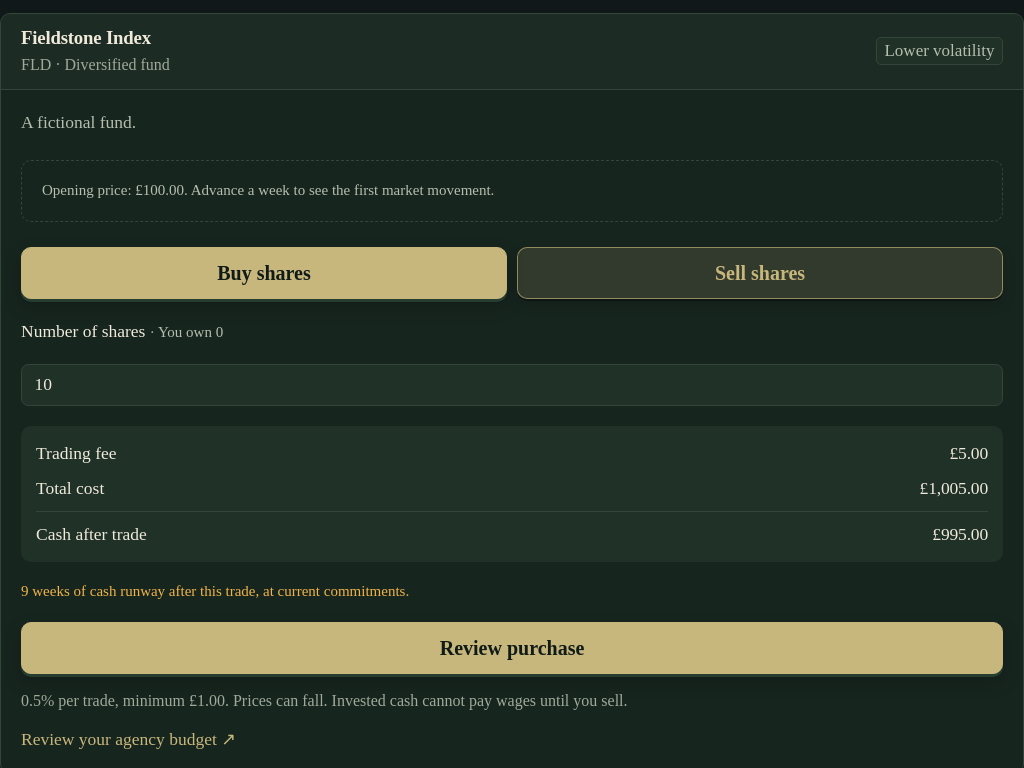
Test: investment trading › requires a cash-backed review before executing and blocks overselling
(page scrolled)
Replace the text in the number field labelled "Number of shares · You own 0" with "100": {"x": 512, "y": 385} [21, 364, 1003, 406]
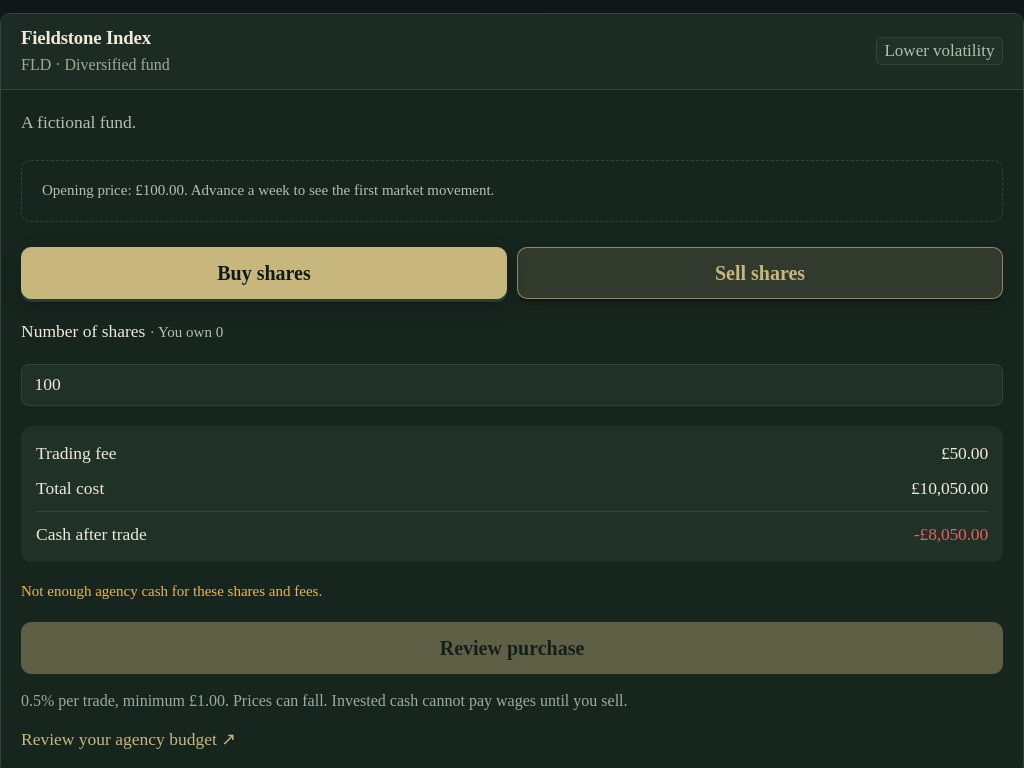
Now the button "Review purchase" is disabled, box [21, 622, 1003, 674]
Replace the text in the number field labelled "Number of shares · You own 0" with "10": {"x": 512, "y": 385} [21, 364, 1003, 406]
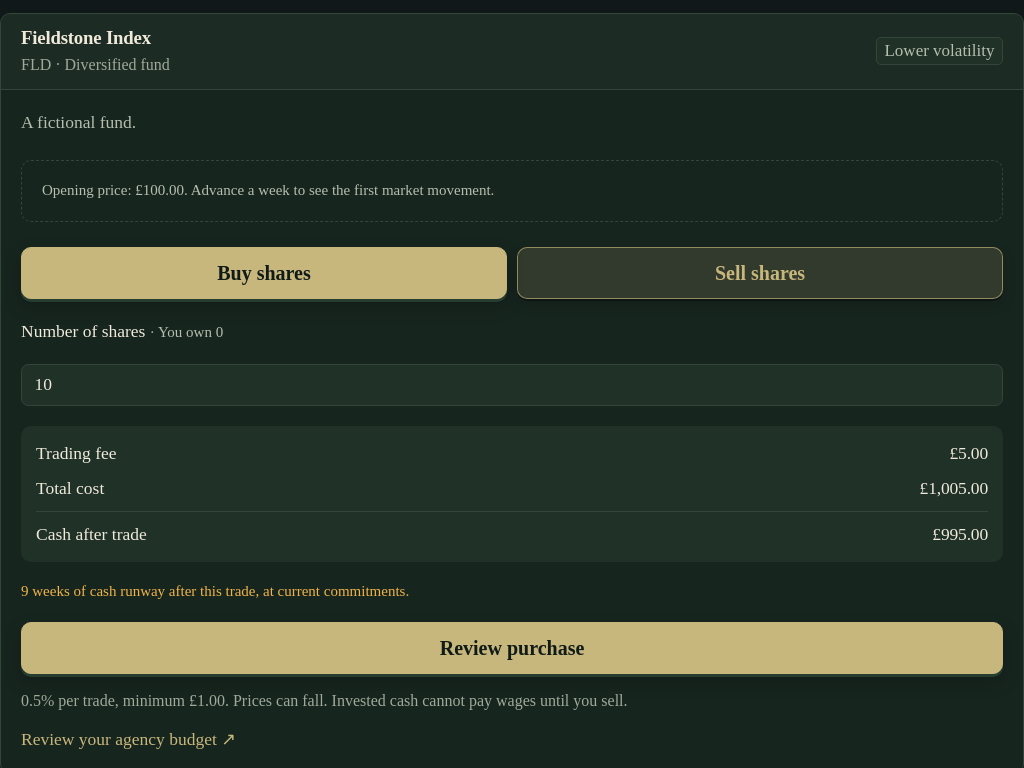
Click the button "Review purchase": {"x": 512, "y": 648} [21, 622, 1003, 674]
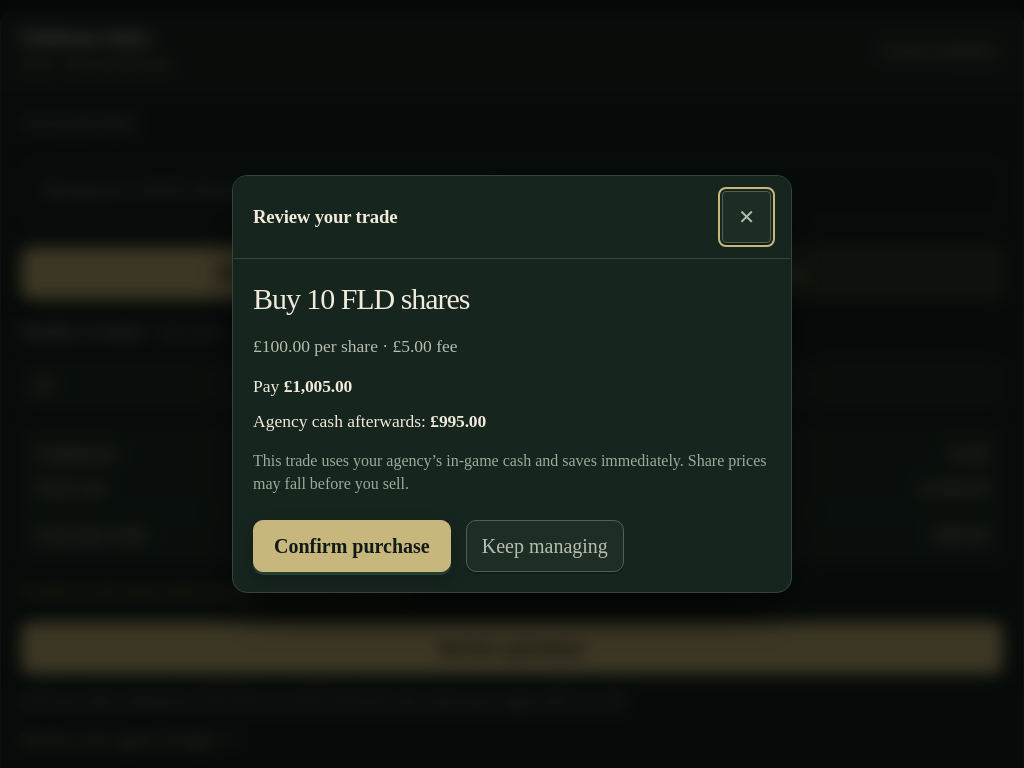
Now the dialog shows "£995.00", box [430, 411, 486, 431]
Click the button "Confirm purchase": {"x": 352, "y": 546} [253, 520, 451, 572]
(page scrolled)
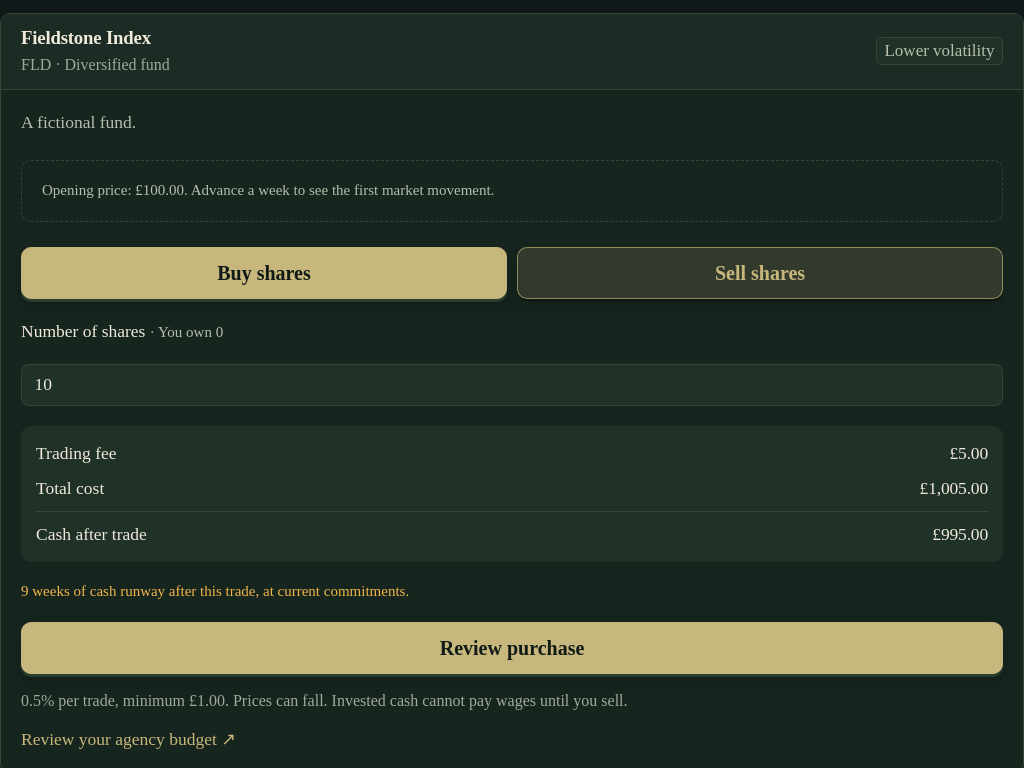
Now the dialog is gone
Click the button "Sell shares": {"x": 760, "y": 273} [517, 247, 1003, 299]
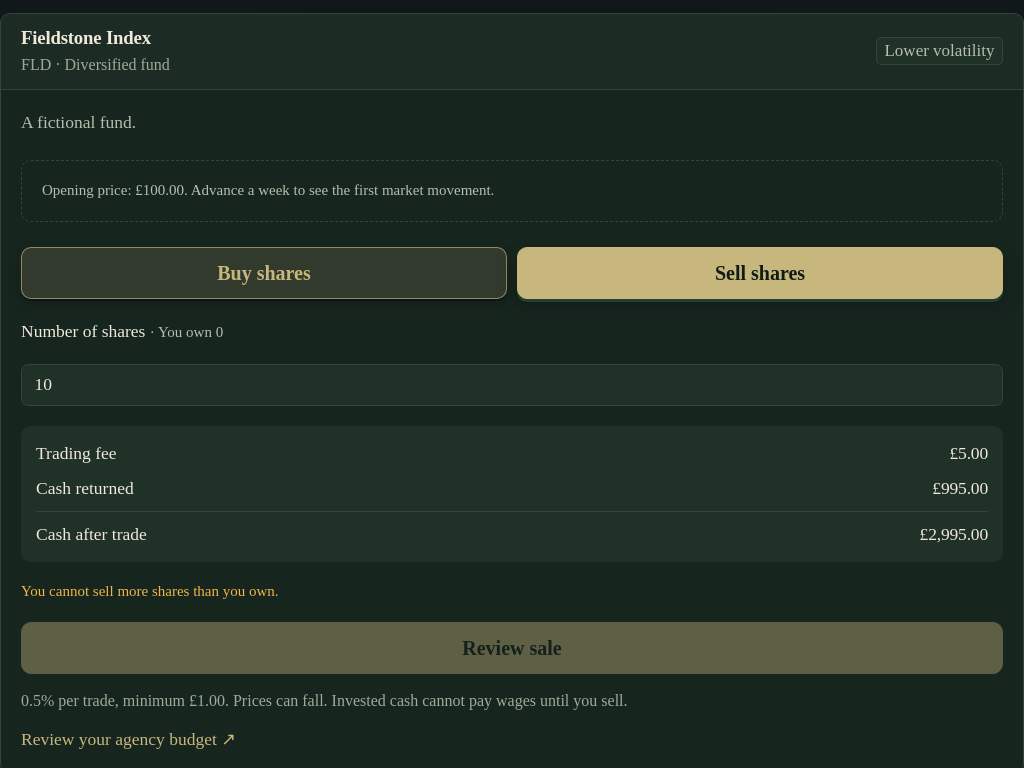
Now the button "Review sale" is disabled, box [21, 622, 1003, 674]
